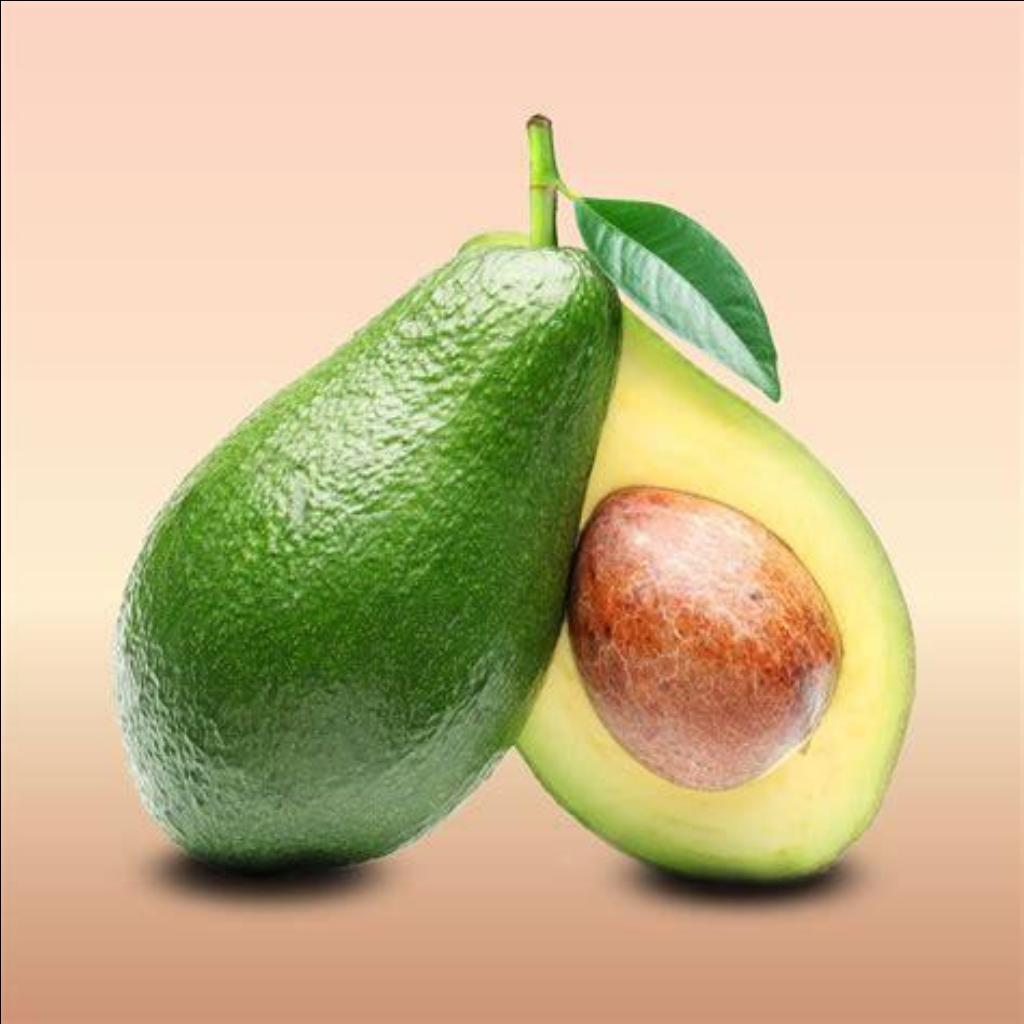fruto_sano: (110, 124, 920, 925)
